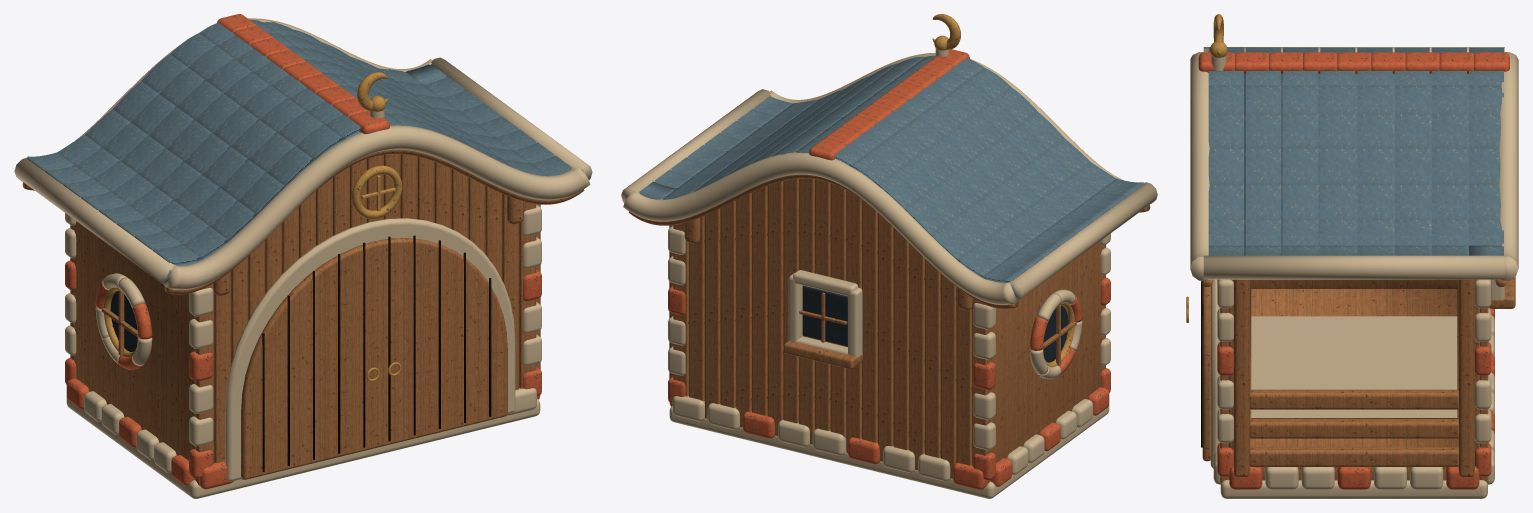
File: B5_船棚_分享包版.glb
The picture shows the model from 3 angles, left to right: view 1: azimuth 30°, elevation 25°; view 2: azimuth 150°, elevation 25°; view 3: azimuth 270°, elevation 25°; orthographic projection. The views are drawn at different scales.
Parts seen in each view (by area): view 1: Closed double oak doors, Closed cottage shell, Sculpted ivory eave, Large boat shed portal, Side roof closed lip, Stone foundation, Individual vertical oak siding.001, Side roof closed lip.001, Individual vertical oak siding.018, Oak eave underside, Individual vertical oak siding.002, Individual vertical oak siding.017 (+65 smaller); view 2: Closed cottage shell, Sculpted ivory eave.001, Individual vertical oak siding.033, Individual vertical oak siding.026, Individual vertical oak siding.027, Individual vertical oak siding.025, Individual vertical oak siding.034, Stone foundation, Side roof closed lip, Individual vertical oak siding.035, Individual vertical oak siding.036, Individual vertical oak siding.024 (+70 smaller); view 3: Stone foundation, Closed cottage shell, Side roof closed lip.001, Open side oak rail.001, Open side oak rail.002, Open side oak rail, Sculpted ivory eave, Sculpted ivory eave.001, Open side support.001, Continuous closed curved roof, Open side support, Closed double oak doors (+87 smaller).
Boxes of the visible parts, x1=… form: Closed double oak doors: x1=241, y1=238, x2=507, y2=479; Closed cottage shell: x1=74, y1=221, x2=195, y2=479; Sculpted ivory eave: x1=164, y1=125, x2=590, y2=289; Large boat shed portal: x1=225, y1=218, x2=515, y2=481; Side roof closed lip: x1=14, y1=158, x2=175, y2=285; Stone foundation: x1=66, y1=397, x2=540, y2=498; Individual vertical oak siding.001: x1=214, y1=271, x2=231, y2=462; Side roof closed lip.001: x1=431, y1=57, x2=592, y2=179; Individual vertical oak siding.018: x1=502, y1=194, x2=519, y2=390; Oak eave underside: x1=164, y1=149, x2=584, y2=294; Individual vertical oak siding.002: x1=231, y1=256, x2=248, y2=362; Individual vertical oak siding.017: x1=485, y1=186, x2=502, y2=279; Closed cottage shell: x1=990, y1=241, x2=1102, y2=480; Sculpted ivory eave.001: x1=623, y1=152, x2=1018, y2=304; Individual vertical oak siding.033: x1=767, y1=181, x2=783, y2=435; Individual vertical oak siding.026: x1=877, y1=213, x2=893, y2=461; Individual vertical oak siding.027: x1=862, y1=200, x2=877, y2=442; Individual vertical oak siding.025: x1=893, y1=228, x2=909, y2=450; Individual vertical oak siding.034: x1=752, y1=186, x2=767, y2=415; Stone foundation: x1=669, y1=404, x2=1109, y2=498; Side roof closed lip: x1=1008, y1=182, x2=1157, y2=300; Individual vertical oak siding.035: x1=736, y1=193, x2=751, y2=427; Individual vertical oak siding.036: x1=720, y1=200, x2=736, y2=407; Individual vertical oak siding.024: x1=909, y1=243, x2=924, y2=470; Stone foundation: x1=1220, y1=316, x2=1487, y2=498; Closed cottage shell: x1=1228, y1=279, x2=1479, y2=480; Side roof closed lip.001: x1=1203, y1=255, x2=1504, y2=279; Open side oak rail.001: x1=1249, y1=418, x2=1458, y2=438; Open side oak rail.002: x1=1249, y1=389, x2=1458, y2=409; Open side oak rail: x1=1249, y1=447, x2=1458, y2=466; Sculpted ivory eave: x1=1190, y1=52, x2=1209, y2=280; Sculpted ivory eave.001: x1=1499, y1=52, x2=1518, y2=280; Open side support.001: x1=1458, y1=279, x2=1474, y2=476; Continuous closed curved roof: x1=1244, y1=74, x2=1468, y2=255; Open side support: x1=1234, y1=279, x2=1249, y2=476; Closed double oak doors: x1=1202, y1=285, x2=1210, y2=461.
Bounding box in the file's own units: 5.16 × 4.39 × 3.31.
7 materials, 7 textured.
